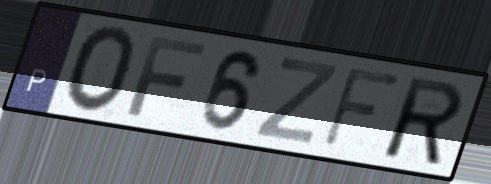6: (198, 49, 265, 133)
F: (318, 64, 406, 151), (123, 34, 211, 120)
O: (61, 23, 139, 116)
R: (382, 74, 467, 169)
Z: (251, 55, 342, 147)
